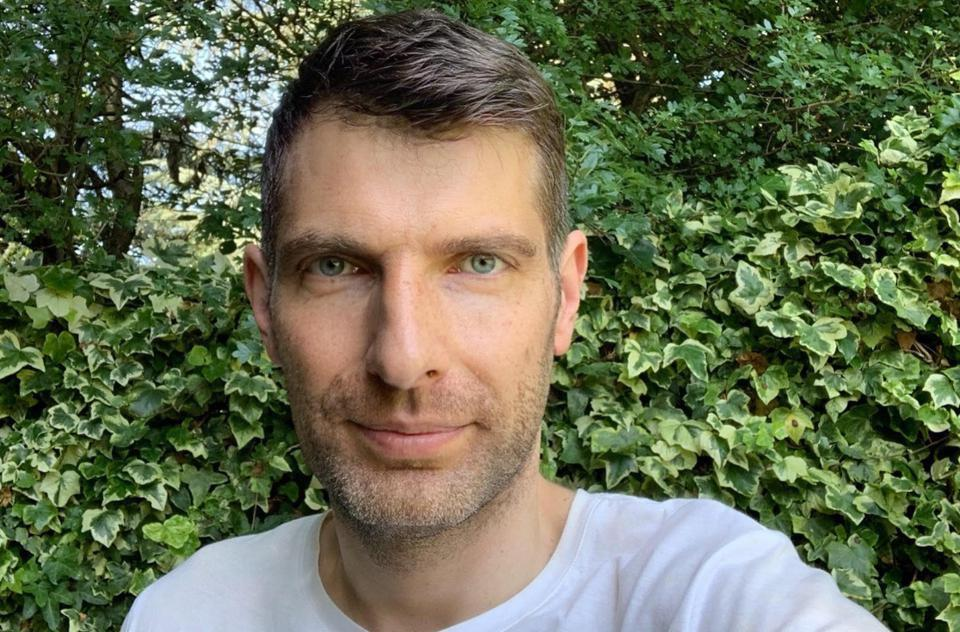Sober: (289, 142, 535, 510)
